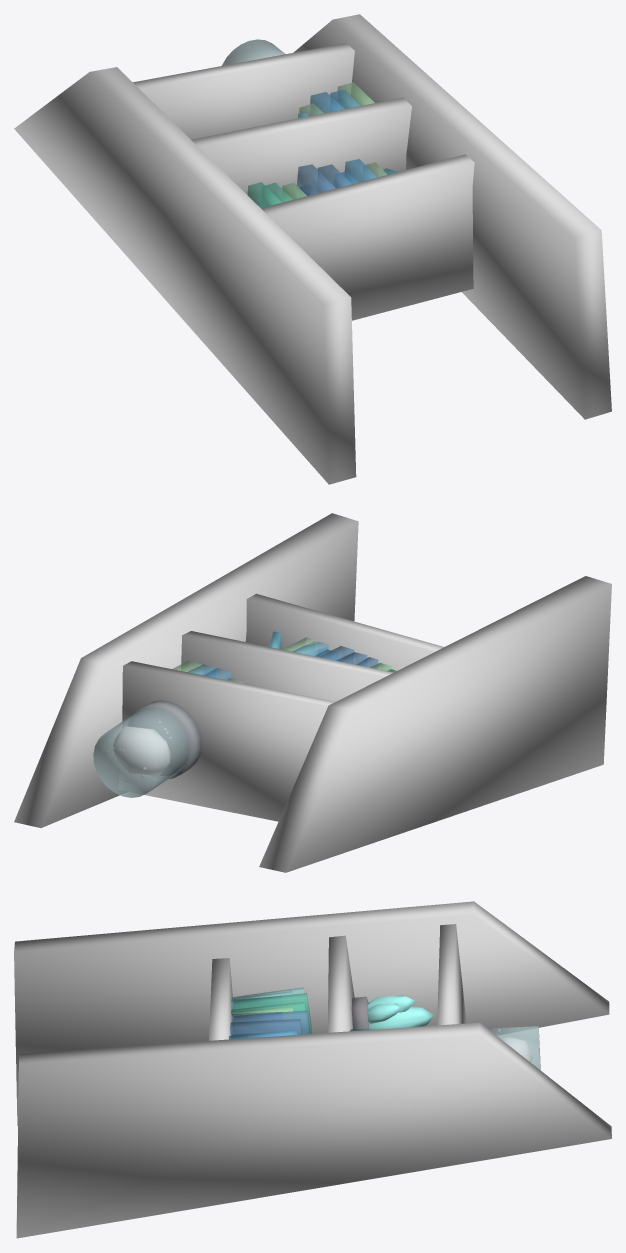
File: bookshelf.fbx
3 views of the same model, one above another, from view 1: azimuth 30°, elevation 25°; view 2: azimuth 150°, elevation 25°; view 3: azimuth 270°, elevation 25° (orthographic). The views are drawn at different scales.
Visible parts, largest first — view 1: bookshelf; view 2: bookshelf; view 3: bookshelf.
Boxes of the visible parts, x1,y1,x2,y2 form: bookshelf: (14, 14, 611, 484); bookshelf: (14, 513, 611, 872); bookshelf: (14, 901, 611, 1238).
Bounding box in the file's own units: 1898 × 1456 × 3652.
